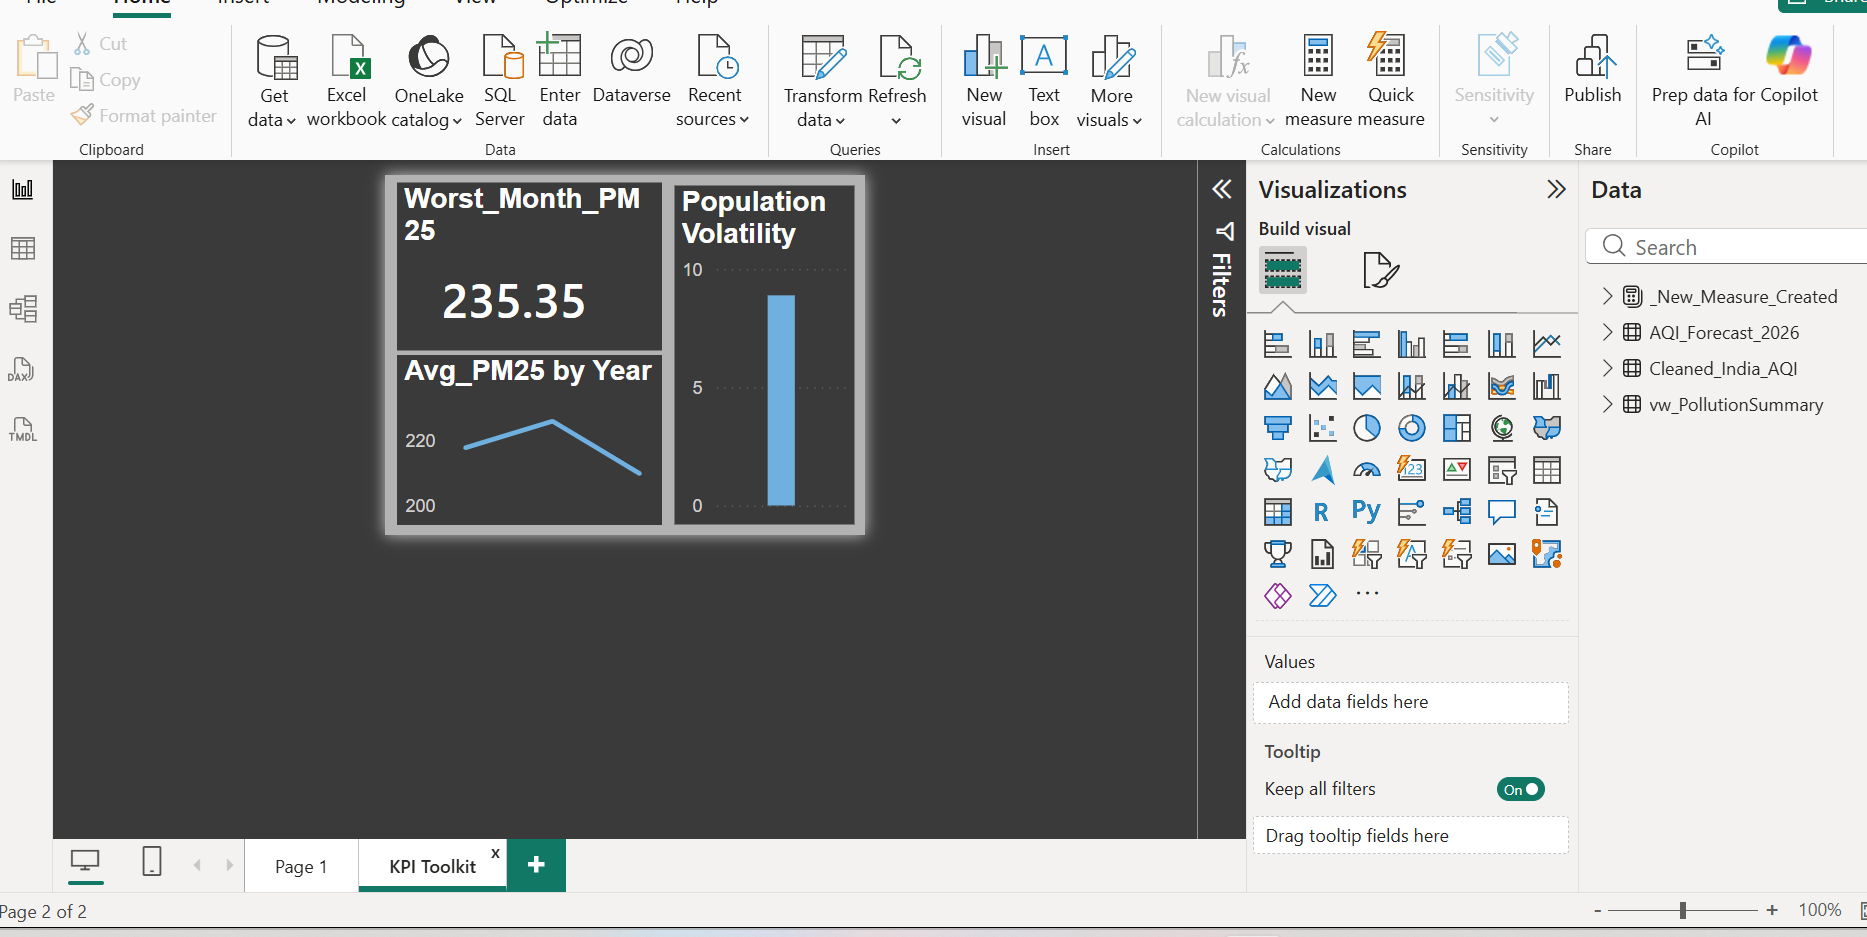

The page's visual inventory and layout, read from the dashboard file:
{"tool":"powerbi","page":{"name":"KPI Toolkit","canvas":[320,240],"ordinal":1},"visuals":[{"type":"lineChart","fields":{"Category":["Cleaned_India_AQI.Date.Variation.Date Hierarchy.Year","Cleaned_India_AQI.Date.Variation.Date Hierarchy.Quarter","Cleaned_India_AQI.Date.Variation.Date Hierarchy.Month","Cleaned_India_AQI.Date.Variation.Date Hierarchy.Day"],"Y":["_New_Measure_Created.Avg_PM25"]},"box":[8,120,177,113],"z":0},{"type":"cardVisual","title":"Worst_Month_PM25","fields":{"Data":["_New_Measure_Created.Worst_Month_PM25"]},"box":[8,5,177,112],"z":1000},{"type":"clusteredColumnChart","title":"Population Volatility","fields":{"Y":["_New_Measure_Created.PM25_Volatility"]},"box":[193,7,120,226],"z":2000}]}

Visuals, with their boxes on the page's 320x240 design canvas (x1, y1, x2, y2). These are canvas units, not pixel positions in the 1867x937 screenshot, which may show the page scaled, cropped or inside an application window:
lineChart - Cleaned_India_AQI.Date.Variation.Date Hierarchy.Year x Cleaned_India_AQI.Date.Variation.Date Hierarchy.Quarter: bbox(8, 120, 185, 233)
"Worst_Month_PM25" cardVisual: bbox(8, 5, 185, 117)
"Population Volatility" clusteredColumnChart: bbox(193, 7, 313, 233)
